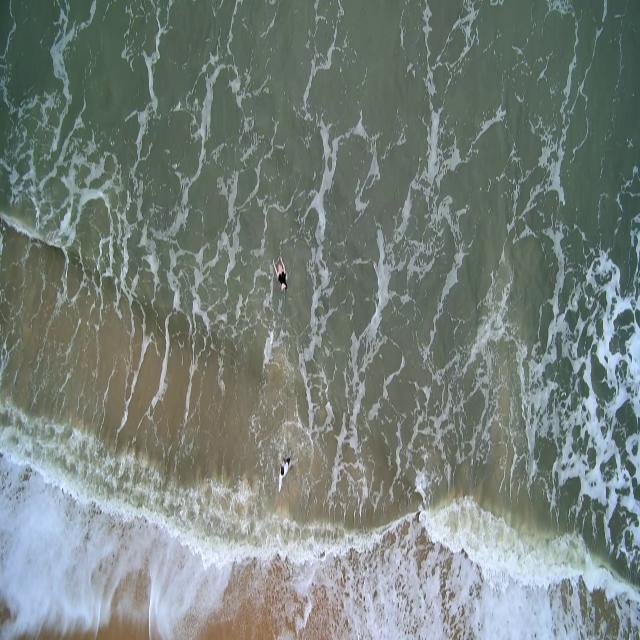dummy: (271, 252, 289, 293)
